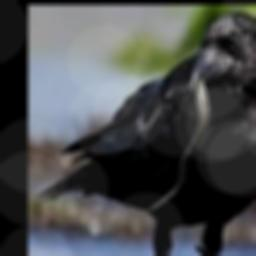Crow: (34, 12, 256, 256)
